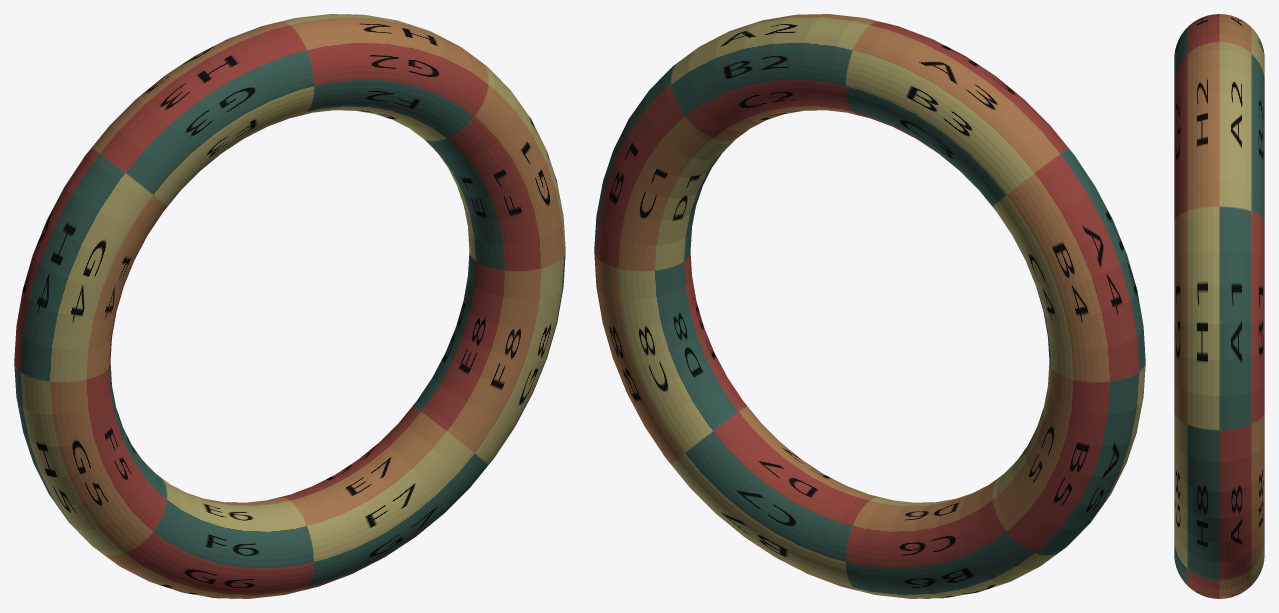
The model's file is texture_torus_R21_r9.glb.
3 renders of one model, left to right at view 1: azimuth 30°, elevation 25°; view 2: azimuth 150°, elevation 25°; view 3: azimuth 270°, elevation 25°, orthographic. The views are drawn at different scales.
Visible parts, largest first — view 1: world; view 2: world; view 3: world.
Boxes of the visible parts, x1,y1,x2,y2 form: world: (14,14,565,598); world: (594,14,1145,598); world: (1174,14,1264,598).
Size of the model in its own units: 28.4 by 28.34 by 4.39.
1 material, 1 textured.
